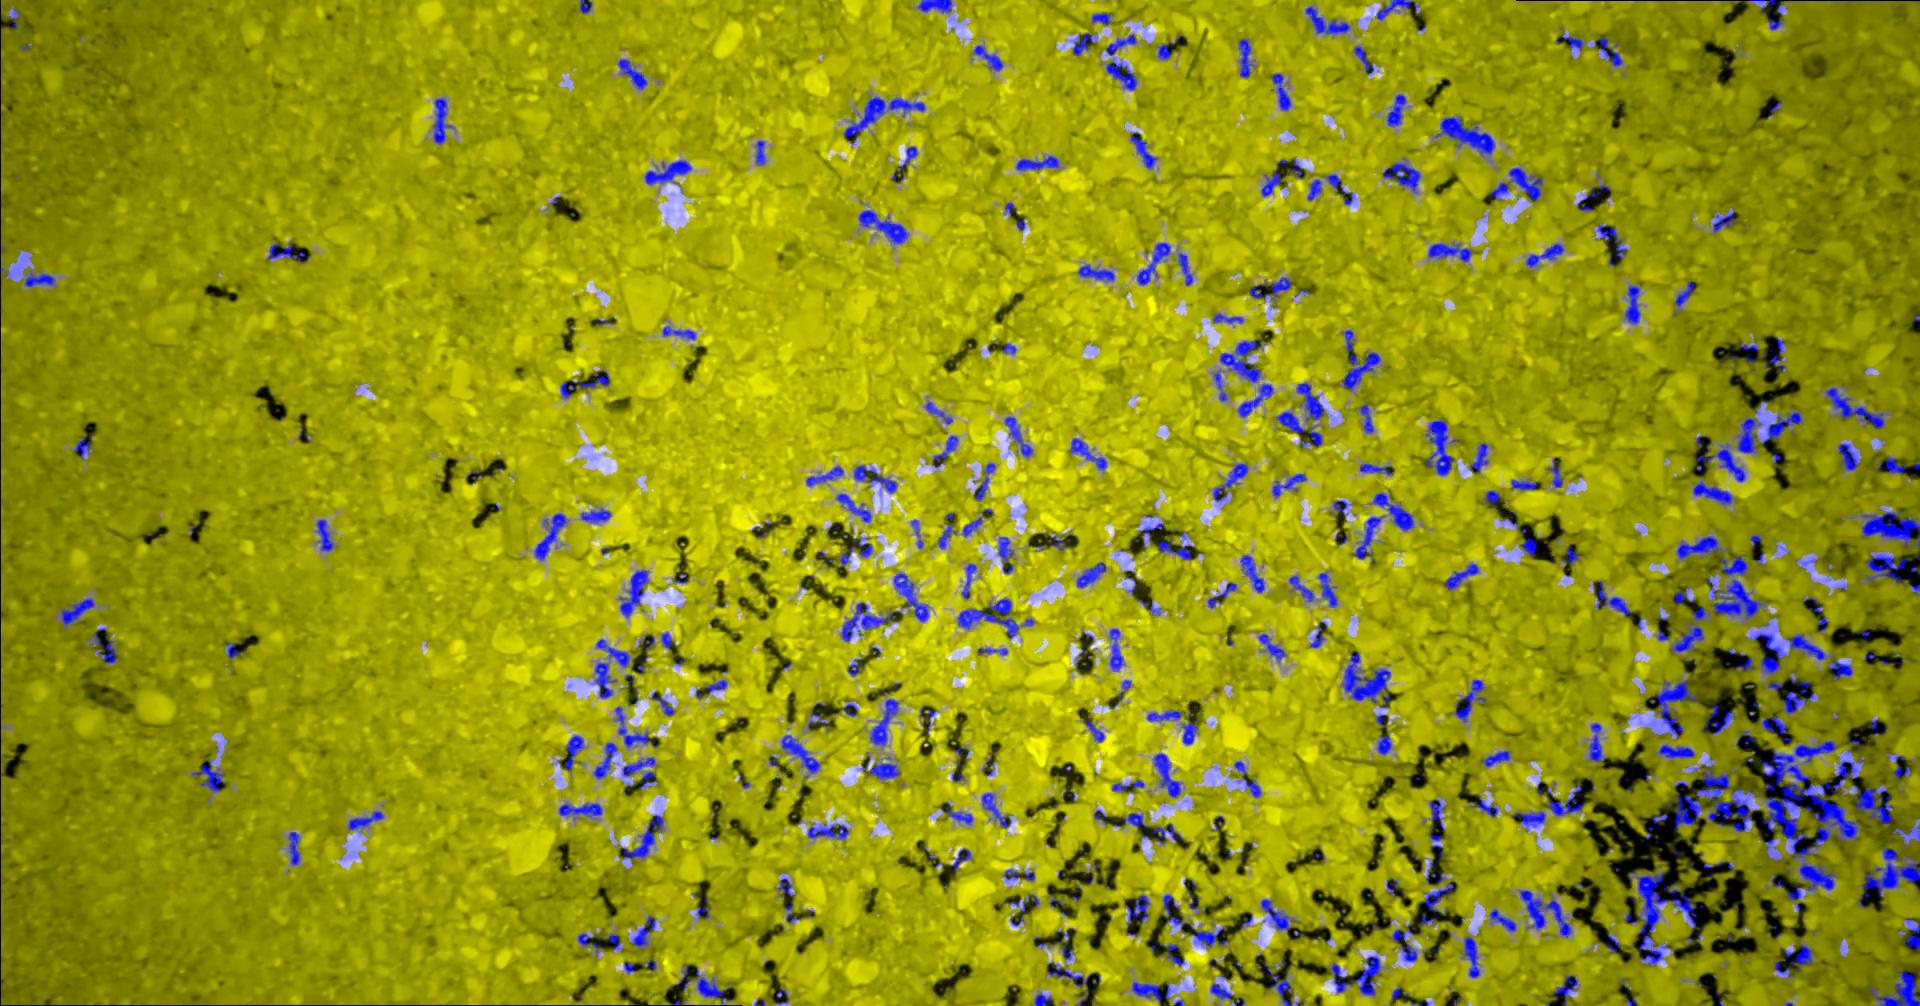ant: (844, 97, 926, 144), (1164, 894, 1229, 946), (1651, 680, 1699, 737), (1705, 577, 1764, 619), (1521, 890, 1573, 937), (1827, 387, 1886, 428), (959, 598, 1020, 636), (1343, 329, 1382, 389), (1437, 116, 1496, 154), (843, 602, 895, 641), (1222, 339, 1267, 382), (1698, 445, 1747, 481), (623, 814, 665, 857), (616, 706, 660, 747), (1426, 419, 1457, 475), (1870, 970, 1920, 1005), (895, 573, 930, 621), (860, 210, 909, 243), (1539, 781, 1586, 815), (1854, 784, 1895, 823), (1277, 412, 1323, 446), (1594, 580, 1639, 615), (1374, 492, 1415, 530), (783, 734, 822, 774), (536, 513, 568, 559), (1138, 243, 1172, 285), (1269, 967, 1305, 1005), (871, 699, 900, 746), (697, 967, 733, 1005), (563, 370, 611, 398), (1752, 633, 1785, 673), (1763, 412, 1804, 443), (621, 570, 649, 617), (1214, 464, 1250, 500), (1775, 942, 1815, 976), (1597, 224, 1628, 265), (1457, 680, 1487, 721), (1307, 6, 1351, 34), (1867, 554, 1911, 582), (193, 756, 227, 791), (855, 465, 898, 493), (646, 159, 693, 184), (1356, 516, 1384, 558), (1070, 438, 1109, 469), (1156, 753, 1182, 796), (1239, 384, 1274, 417), (1384, 163, 1422, 192), (1006, 417, 1034, 456), (1510, 166, 1543, 199), (1785, 677, 1816, 713), (1425, 882, 1457, 915), (1677, 535, 1723, 558), (1048, 962, 1091, 986), (1131, 131, 1159, 168), (1298, 382, 1324, 420), (1262, 898, 1294, 930), (838, 493, 872, 522), (983, 793, 1012, 827), (1788, 634, 1827, 659), (1236, 760, 1262, 796), (1672, 622, 1705, 652), (1357, 955, 1382, 995), (1250, 277, 1293, 298), (618, 58, 649, 89), (1694, 481, 1735, 504), (1242, 554, 1266, 592), (1446, 563, 1481, 589), (62, 598, 97, 625), (436, 97, 455, 144), (1705, 704, 1735, 734), (1528, 243, 1564, 267), (893, 146, 919, 179), (598, 639, 631, 666), (1738, 417, 1763, 452), (95, 627, 119, 663), (1107, 61, 1138, 89), (596, 742, 618, 779), (1272, 473, 1307, 497), (1158, 535, 1192, 559), (1378, 0, 1421, 19), (1133, 981, 1171, 1002), (1596, 37, 1624, 66), (1763, 716, 1792, 744), (596, 662, 618, 697), (269, 243, 311, 262), (935, 434, 959, 467), (1394, 929, 1418, 962), (1260, 633, 1288, 661), (1328, 174, 1354, 205), (1430, 243, 1473, 260), (632, 915, 657, 946), (977, 464, 997, 500), (808, 465, 844, 485), (975, 44, 1004, 70), (1078, 561, 1107, 587), (1209, 582, 1238, 607), (1211, 983, 1246, 1005), (1272, 72, 1291, 111), (942, 801, 974, 824), (1590, 721, 1608, 761), (565, 735, 585, 770), (938, 512, 957, 547), (863, 761, 902, 779), (349, 810, 385, 829), (809, 823, 850, 840), (1128, 894, 1150, 923), (1556, 976, 1578, 1005), (1017, 155, 1060, 170), (1290, 575, 1316, 601), (1646, 813, 1670, 840), (844, 533, 872, 556), (1109, 33, 1138, 55), (1332, 963, 1354, 992), (1388, 93, 1407, 126), (1741, 0, 1785, 14), (560, 801, 604, 815), (1465, 936, 1481, 977), (927, 401, 954, 424), (1839, 443, 1862, 470), (1321, 572, 1338, 606), (1491, 908, 1517, 931), (1239, 38, 1255, 77), (1625, 285, 1641, 324), (1355, 44, 1375, 74), (1154, 823, 1183, 843), (623, 757, 657, 775), (1111, 627, 1125, 669), (1470, 442, 1490, 473), (697, 680, 728, 699), (1079, 264, 1116, 279), (999, 536, 1015, 573), (653, 691, 676, 715), (1083, 715, 1105, 741), (1770, 337, 1787, 370), (1877, 455, 1907, 473), (317, 520, 335, 550), (1722, 555, 1749, 575), (1658, 744, 1697, 758), (1515, 810, 1547, 827), (1010, 894, 1041, 911), (1578, 187, 1601, 210), (1676, 281, 1697, 306), (670, 964, 691, 989), (1785, 884, 1804, 911), (963, 563, 977, 598), (1714, 210, 1736, 232), (1178, 253, 1194, 285), (1431, 799, 1446, 831), (921, 706, 937, 735), (1557, 32, 1583, 50), (1074, 32, 1095, 55), (582, 508, 612, 523), (1148, 710, 1194, 720), (1483, 749, 1511, 766), (1263, 171, 1283, 196), (1140, 522, 1164, 541), (1830, 661, 1854, 680), (1310, 621, 1328, 647), (25, 272, 57, 286), (952, 848, 971, 871), (75, 433, 93, 457), (1895, 754, 1912, 779), (1427, 859, 1445, 883), (579, 934, 603, 951), (1123, 812, 1150, 827), (664, 326, 697, 339), (1112, 779, 1145, 791), (1477, 796, 1498, 815), (1053, 940, 1074, 959), (1166, 944, 1185, 965), (1361, 403, 1375, 432), (1550, 457, 1564, 486), (1905, 923, 1920, 950), (1215, 370, 1228, 401), (290, 831, 301, 865), (1431, 829, 1445, 857), (1378, 729, 1393, 754), (1895, 826, 1920, 841), (919, 0, 952, 11), (1138, 598, 1162, 614), (964, 517, 983, 536), (1004, 869, 1036, 880), (1490, 182, 1510, 199), (1563, 545, 1580, 567), (636, 771, 658, 788), (912, 520, 924, 547), (1183, 721, 1199, 744), (1604, 934, 1622, 953), (1361, 464, 1394, 474), (227, 641, 248, 658), (809, 713, 829, 729), (1676, 587, 1695, 603), (1214, 312, 1244, 323), (602, 934, 622, 949), (1050, 535, 1072, 549), (1737, 653, 1755, 669), (778, 878, 795, 895), (1288, 158, 1303, 177), (1523, 536, 1538, 555), (1804, 597, 1823, 612), (1309, 179, 1323, 199), (1512, 479, 1539, 489), (785, 904, 800, 922), (1335, 500, 1349, 520), (841, 547, 855, 567), (1487, 490, 1502, 507), (850, 658, 865, 674), (757, 140, 767, 164), (1093, 11, 1112, 24), (979, 647, 1010, 654), (698, 898, 710, 918), (1393, 987, 1411, 1000), (1035, 993, 1054, 1005), (663, 633, 677, 648), (843, 702, 858, 716), (1095, 809, 1109, 824), (777, 988, 790, 1005), (984, 757, 996, 775), (1159, 44, 1173, 58), (1769, 17, 1784, 29), (1388, 879, 1399, 895), (1694, 606, 1707, 620), (1818, 616, 1829, 631), (582, 0, 593, 13)
